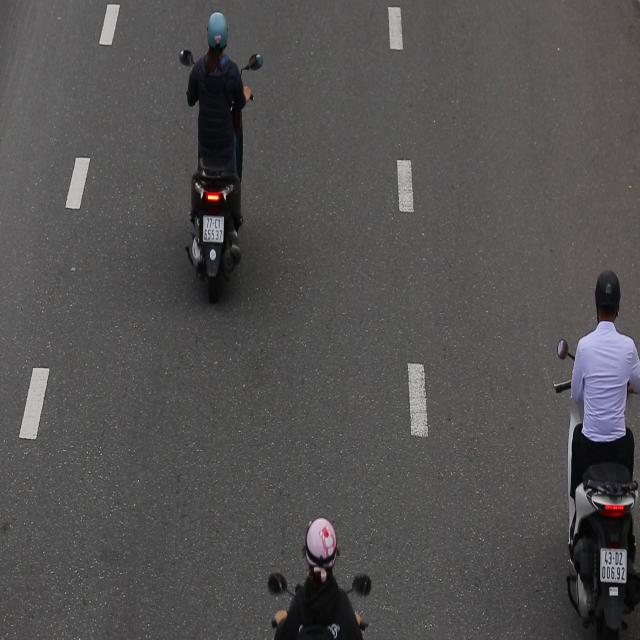motorbike: (557, 263, 640, 640), (172, 6, 264, 306)
